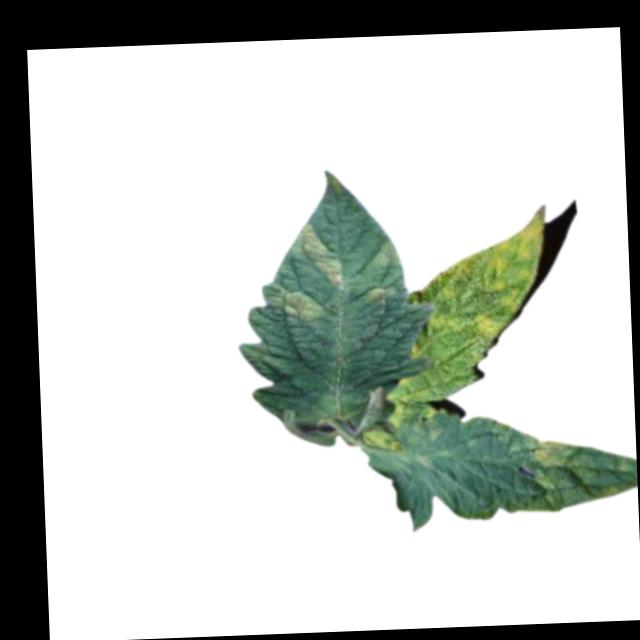Leaf_Mold: (405, 205, 550, 354), (290, 218, 350, 294), (262, 280, 326, 321), (531, 436, 581, 469), (375, 240, 399, 266), (364, 287, 390, 309)
